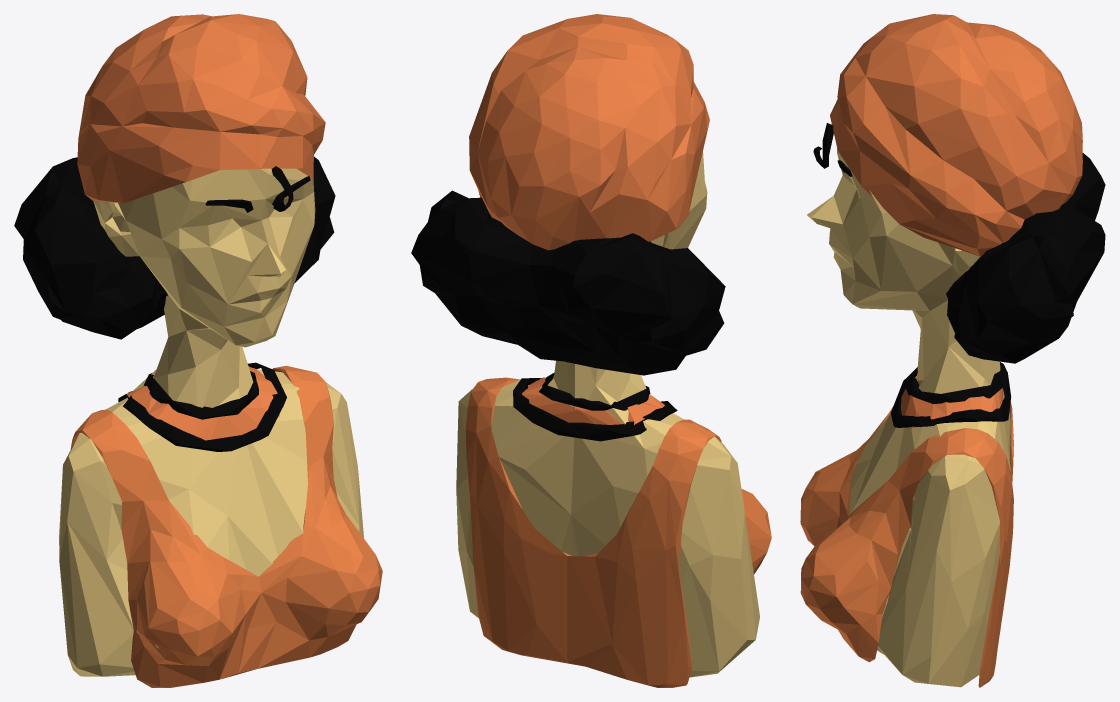
Rendered from lauren.glb.
3 renders of one model, left to right at view 1: azimuth 30°, elevation 25°; view 2: azimuth 150°, elevation 25°; view 3: azimuth 270°, elevation 25°, orthographic. The views are drawn at different scales.
Parts seen in each view (by area): view 1: FemaleHead5, Extract2, FemaleHead4, Extract8, Extract6, Extract7, Extract10; view 2: FemaleHead4, Extract2, FemaleHead5, Extract8, Extract6, Extract7; view 3: FemaleHead4, FemaleHead5, Extract2, Extract8, Extract6, Extract7, Extract10.
Part boxes in pixels (bbox=[...]): FemaleHead5: bbox=[59, 168, 363, 676]; Extract2: bbox=[70, 365, 382, 687]; FemaleHead4: bbox=[77, 14, 325, 203]; Extract8: bbox=[14, 156, 335, 339]; Extract6: bbox=[118, 362, 286, 451]; Extract7: bbox=[126, 366, 279, 440]; Extract10: bbox=[149, 166, 293, 298]; FemaleHead4: bbox=[469, 14, 709, 250]; Extract2: bbox=[465, 377, 771, 687]; FemaleHead5: bbox=[456, 151, 766, 677]; Extract8: bbox=[411, 190, 725, 375]; Extract6: bbox=[513, 372, 677, 441]; Extract7: bbox=[522, 377, 664, 425]; FemaleHead4: bbox=[830, 14, 1082, 256]; FemaleHead5: bbox=[807, 148, 1010, 687]; Extract2: bbox=[800, 401, 1013, 687]; Extract8: bbox=[947, 153, 1105, 363]; Extract6: bbox=[891, 362, 1011, 427]; Extract7: bbox=[901, 376, 1003, 428]; Extract10: bbox=[813, 123, 966, 298].
Size of the model in its own units: 0.6506 by 1.36 by 0.602.
